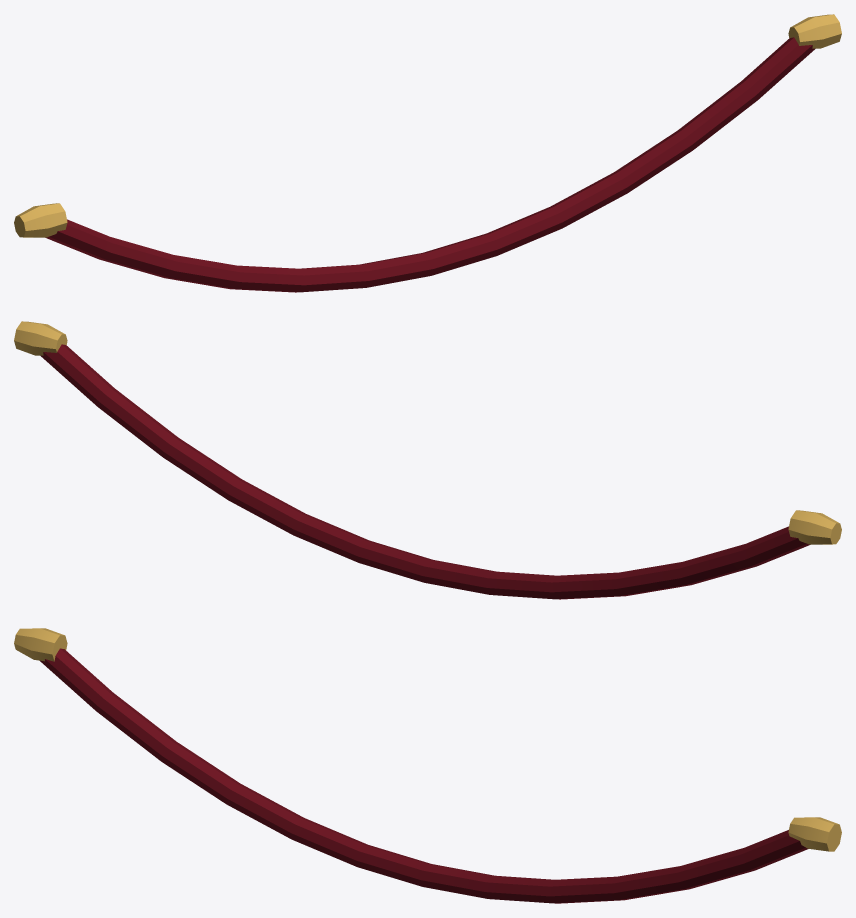
File: rope.glb
The picture shows the model from 3 angles, top to bottom: view 1: azimuth 30°, elevation 25°; view 2: azimuth 150°, elevation 25°; view 3: azimuth 330°, elevation 25°; orthographic projection.
Parts seen in each view (by area): view 1: rope; view 2: rope; view 3: rope.
Boxes of the visible parts, bbox=[...] form: rope: bbox=[14, 14, 841, 292]; rope: bbox=[14, 321, 841, 599]; rope: bbox=[14, 628, 841, 903].
Size of the model in its own units: 1.62 by 0.312 by 0.06.
